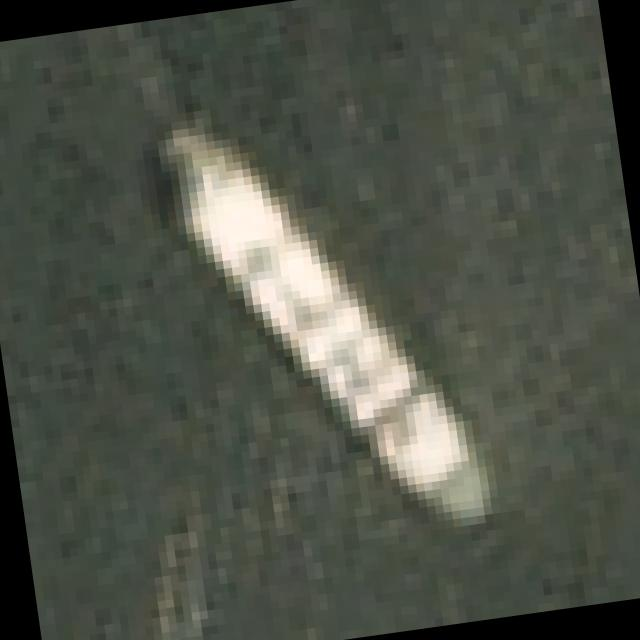ship: (121, 59, 556, 584)
